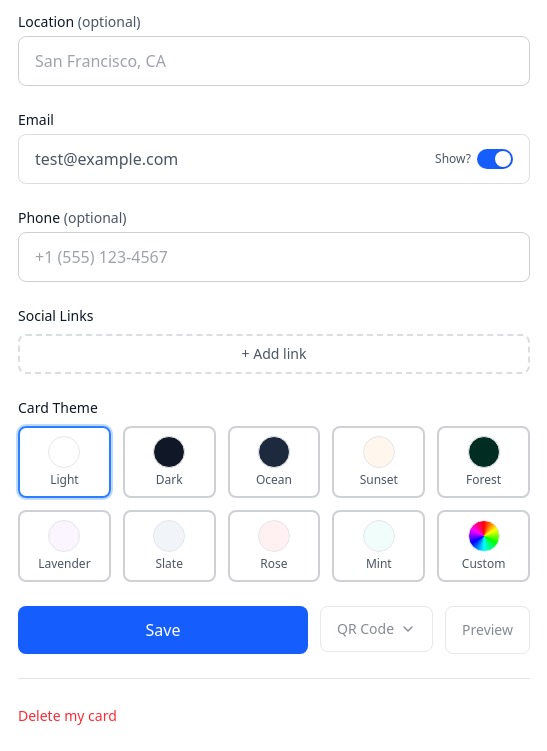
Test: EditProfilePage /api/profile/me › disables QR/Preview until a first save assigns a profile id for a new user
(page scrolled)
Expected: the button "QR Code" is disabled, [320, 606, 433, 652]
What coordinates should you click on to do the following:
click the button "Save"
I would click on:
 (163, 630)
Its box is [18, 606, 308, 654].
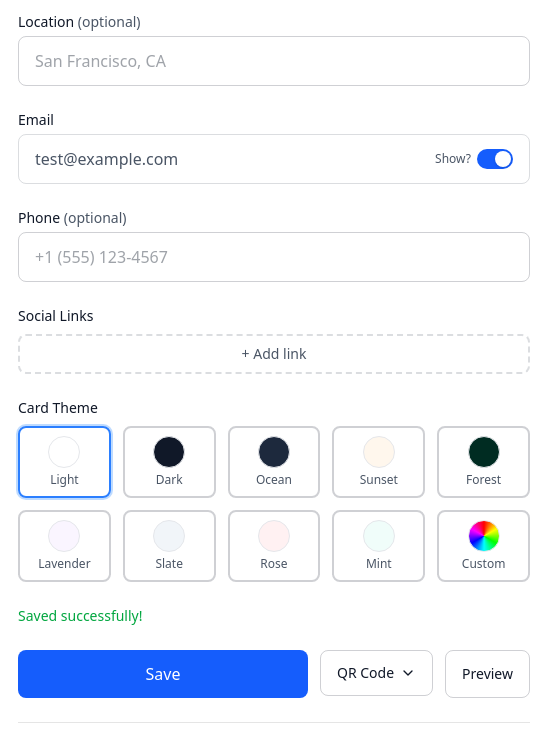
Result: the button "QR Code" is enabled at [320, 650, 433, 696]
